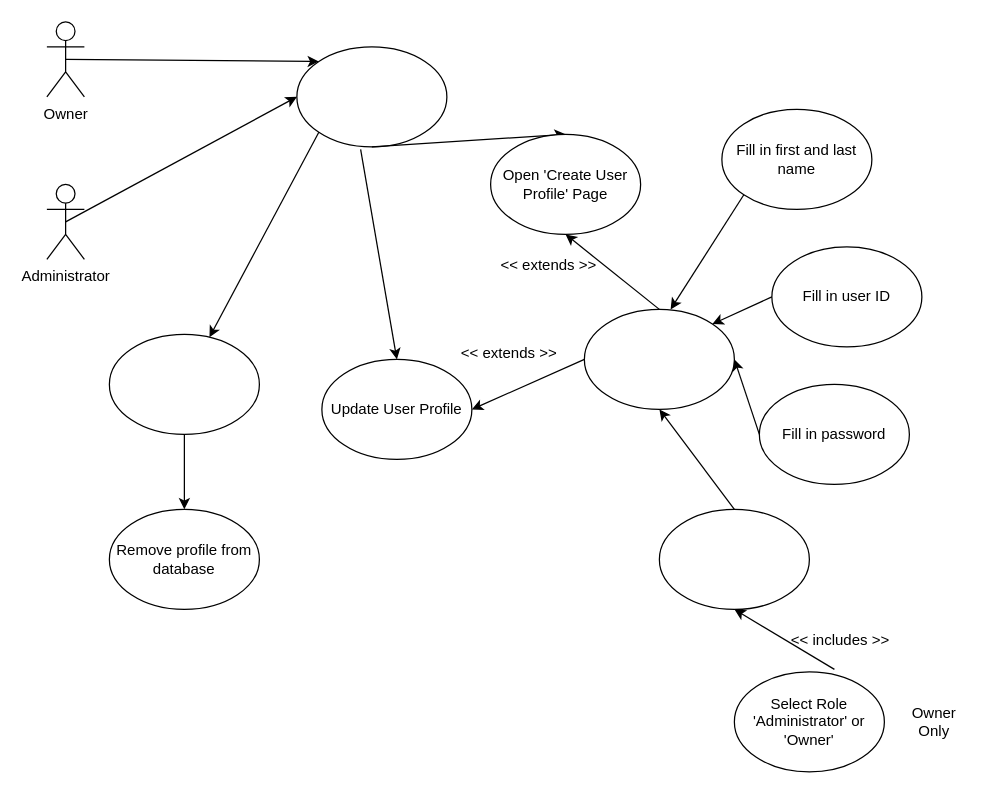
The diagram is 994 pixels wide and 794 high, and some of its shapes have lost their labels. Here are the shapes that lost their labels. From the top down, the centre of each, then its label:
(x=371, y=96): Log-in To page
(x=658, y=358): Fill In all required details
(x=183, y=383): Delete User Profile
(x=733, y=558): Select user role from dropdown list
